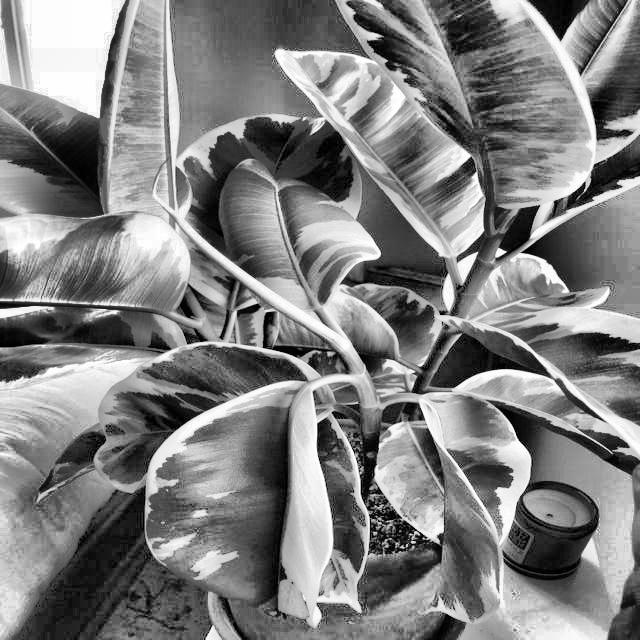plants: (29, 0, 598, 639), (144, 374, 373, 619), (378, 386, 542, 622)
